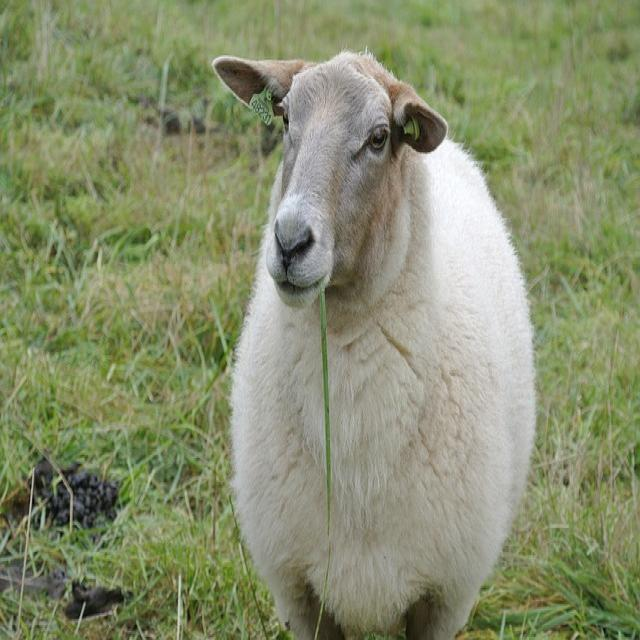sheep: (211, 46, 538, 639)
